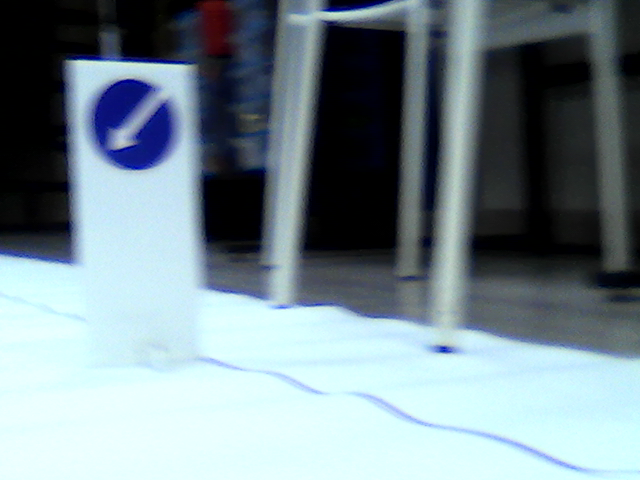prep: (90, 80, 176, 172)
